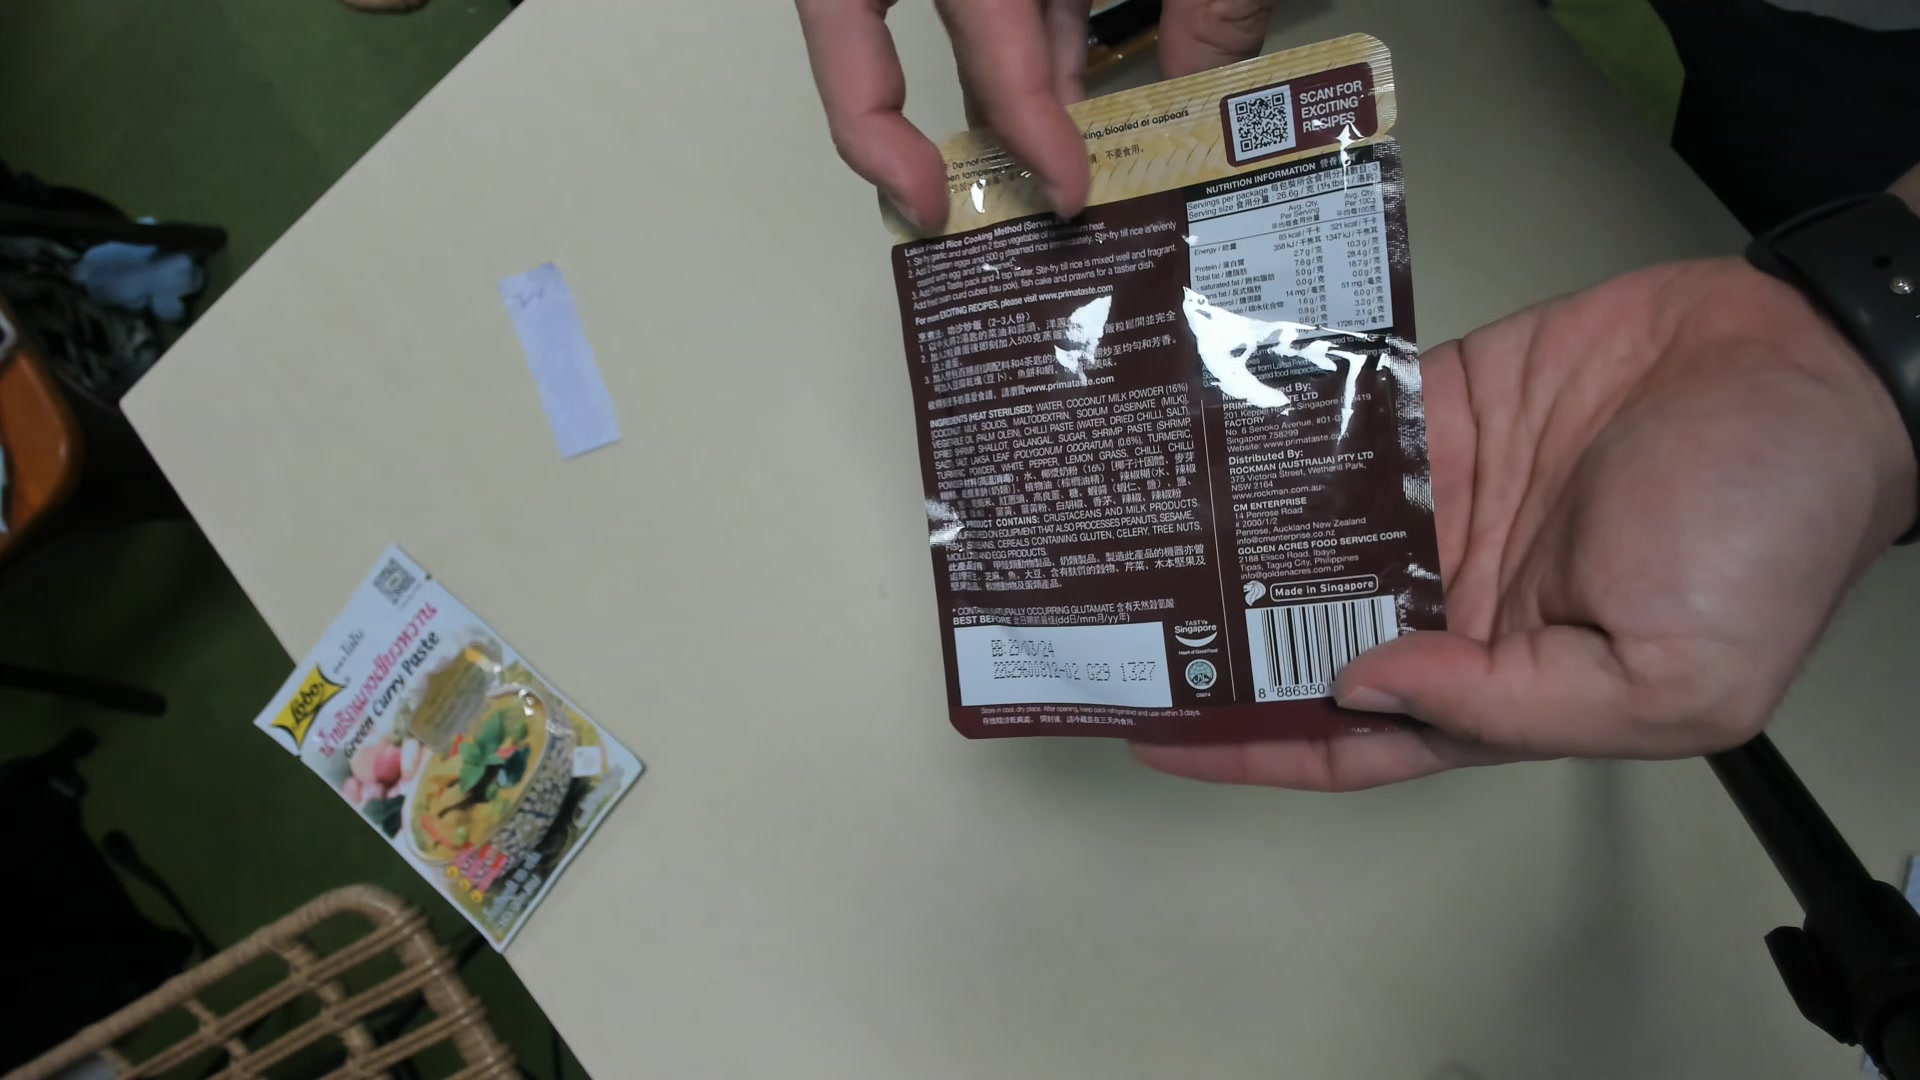OtherSauceDressing_0-99g_Halal_NonHealthy: (884, 30, 1443, 746)
